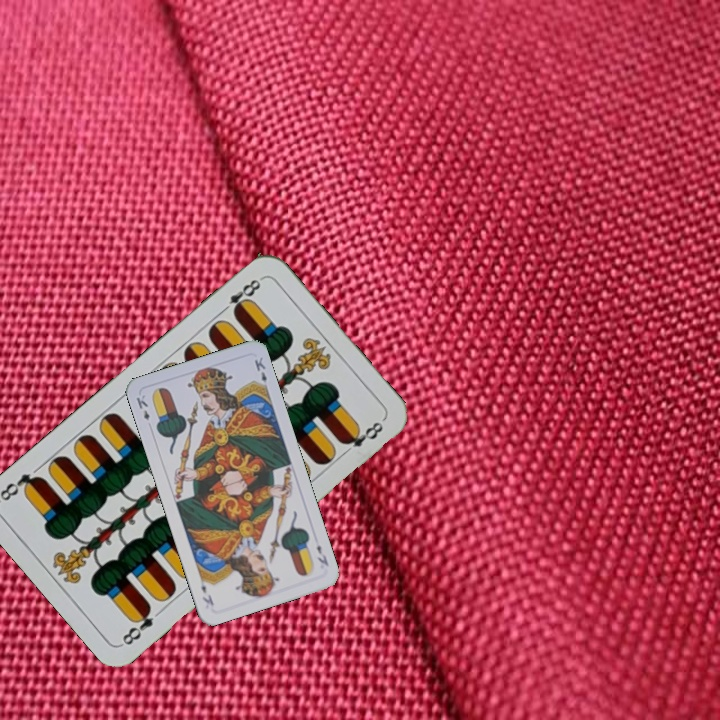E8: (216, 273, 265, 318), (118, 601, 156, 648)
EK: (132, 391, 152, 423), (313, 541, 331, 569)
